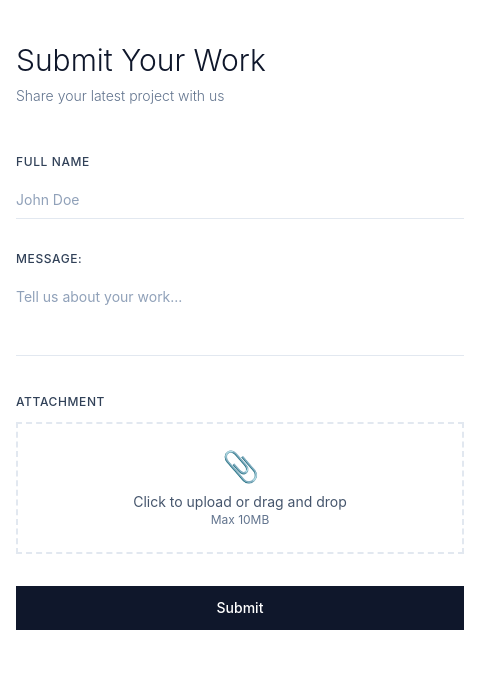
App Component - Form Validation › shows error when name is empty
Click the button "Submit" at (240, 608), box [16, 586, 464, 630]
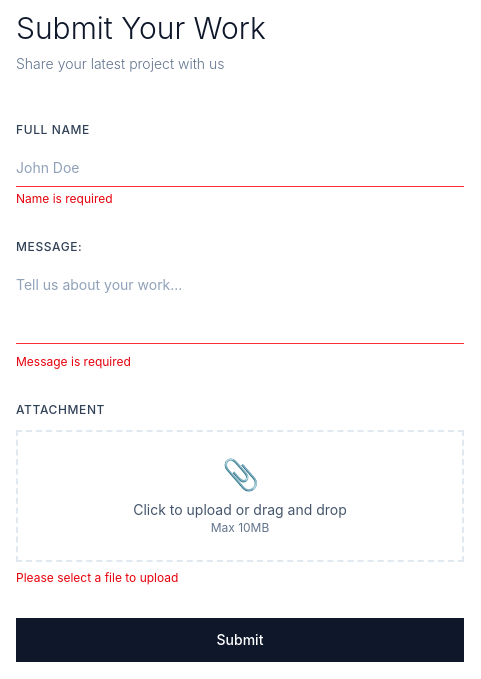
expect the text "Name is required" is shown: met, box [16, 191, 113, 206]
